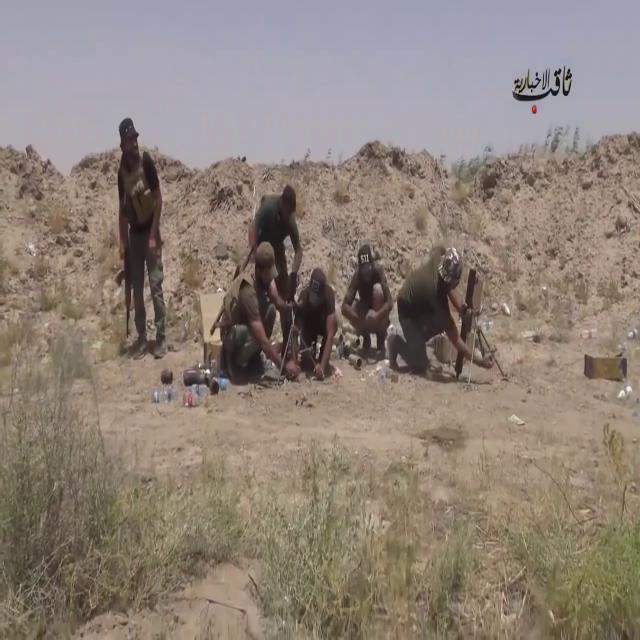long weapon: (111, 210, 139, 346)
